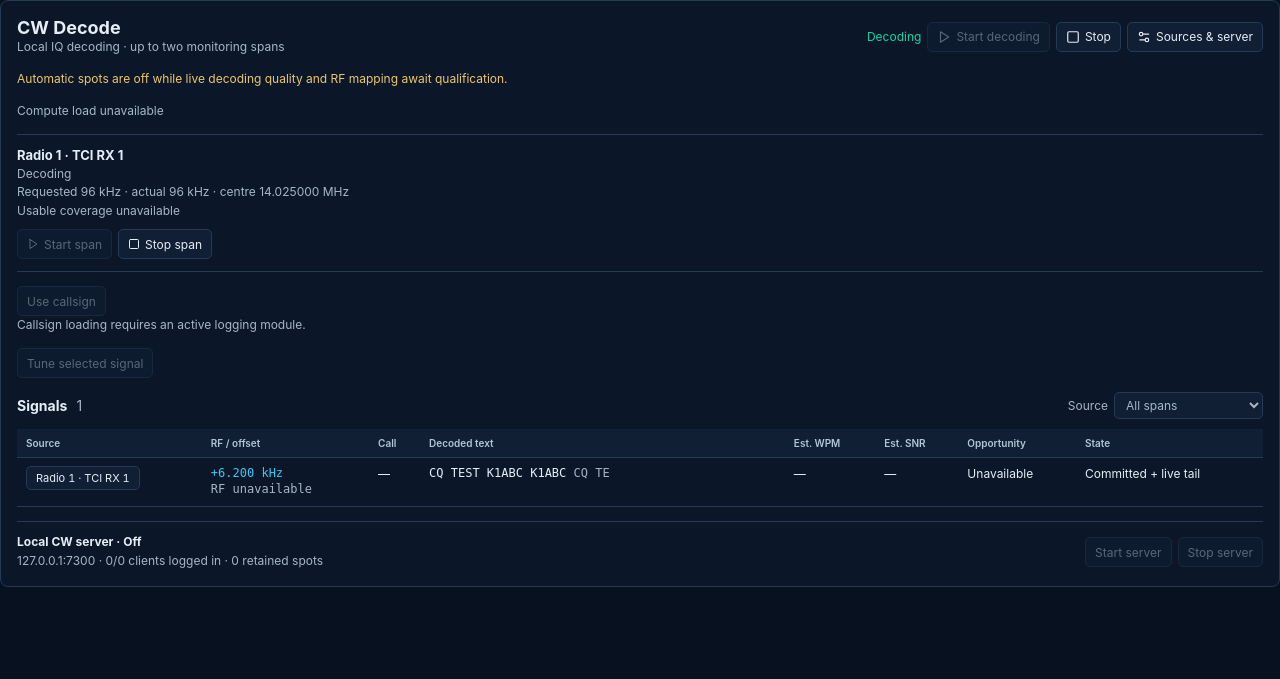
Test case: CW Decode shared native view › shows measured sample ages separately from model time; measured=true
Click the button with aria-label "Inspect signal".
click(83, 478)  # box [26,466,140,490]
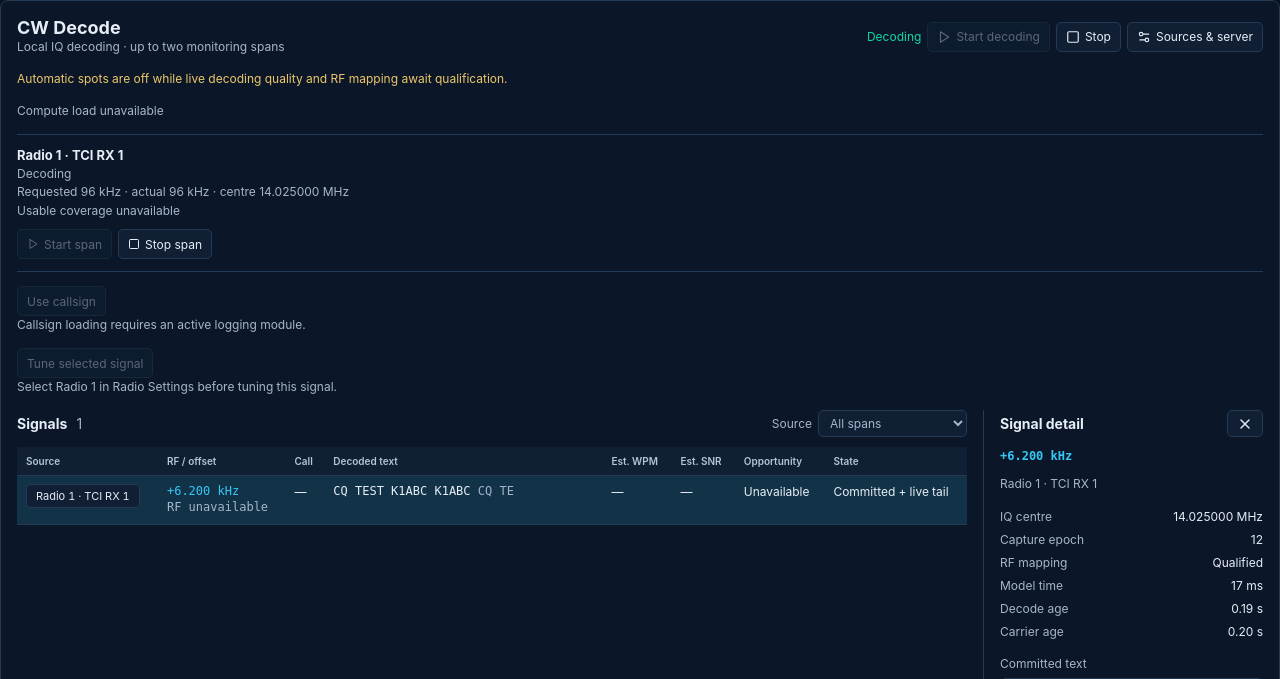
Check: the text "17 ms" is shown, box [1231,578,1263,593]
Check: the text "0.19 s" is shown, box [1231,601,1263,616]
Check: the text "0.20 s" is shown, box [1228,624,1263,639]
